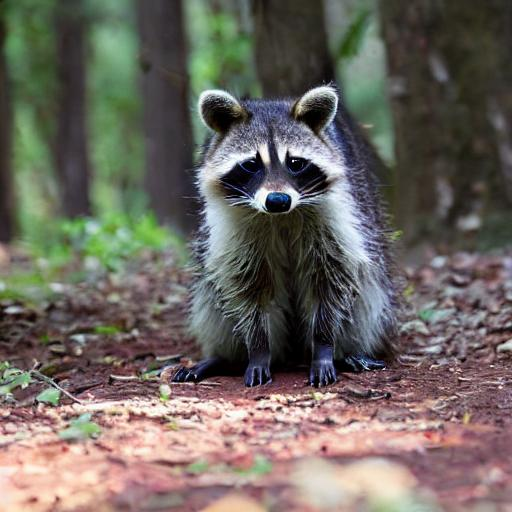raccoon: (174, 81, 403, 356)
